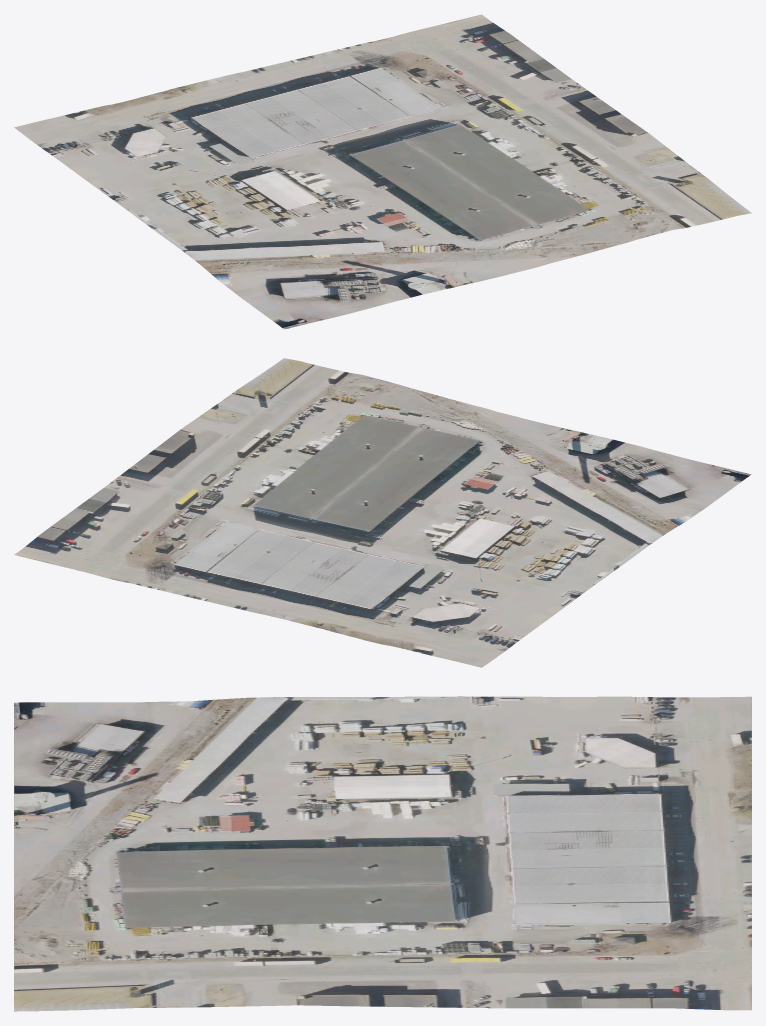
Rendered from CM_Terrain_24488615_6818770.fbx.
3 renders of one model, top to bottom at view 1: azimuth 30°, elevation 25°; view 2: azimuth 150°, elevation 25°; view 3: azimuth 270°, elevation 25°, orthographic. The views are drawn at different scales.
Visible parts, largest first — view 1: CM_Terrain_24488615_6818770_LOD0; view 2: CM_Terrain_24488615_6818770_LOD0; view 3: CM_Terrain_24488615_6818770_LOD0.
Part boxes in pixels (x1=…): CM_Terrain_24488615_6818770_LOD0: x1=14, y1=14, x2=751, y2=329; CM_Terrain_24488615_6818770_LOD0: x1=14, y1=358, x2=751, y2=667; CM_Terrain_24488615_6818770_LOD0: x1=14, y1=696, x2=751, y2=1011.
Size of what is drawn, in the model's own units: 205 by 2.9 by 205.
